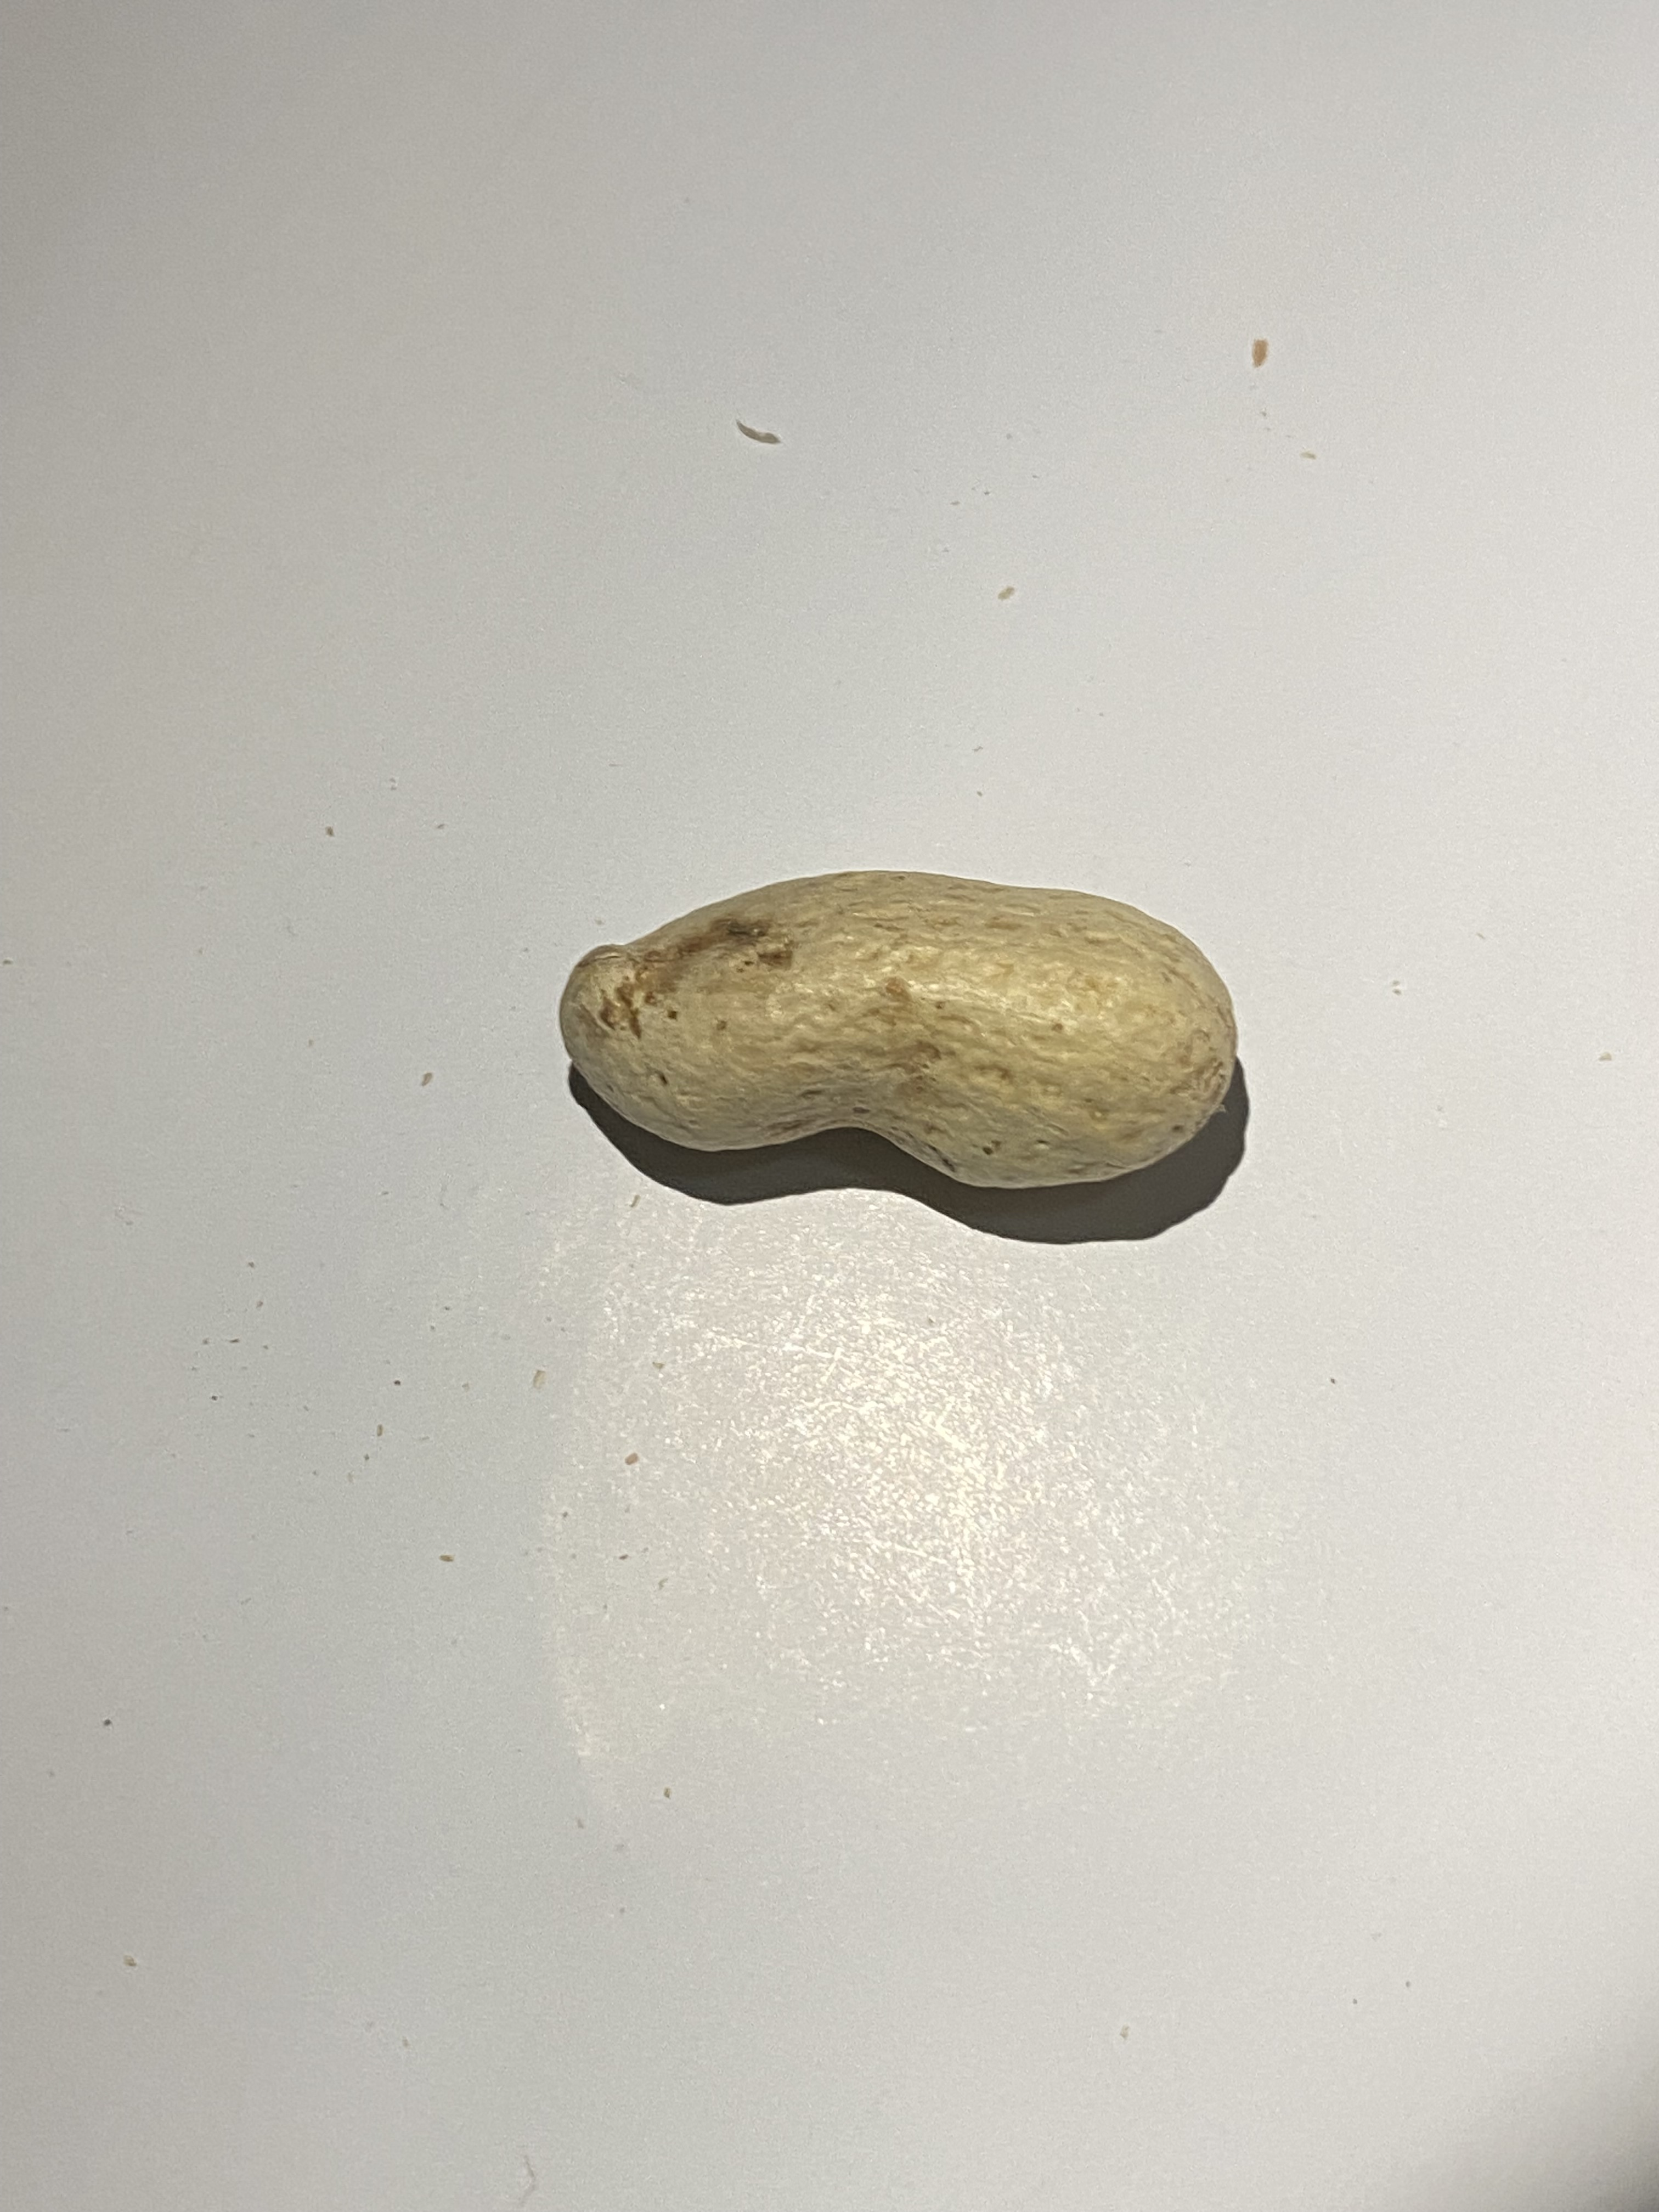kacang2: (519, 866, 1246, 1202)
